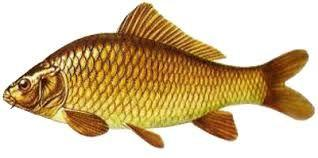Grass Carp: (4, 3, 315, 149)
